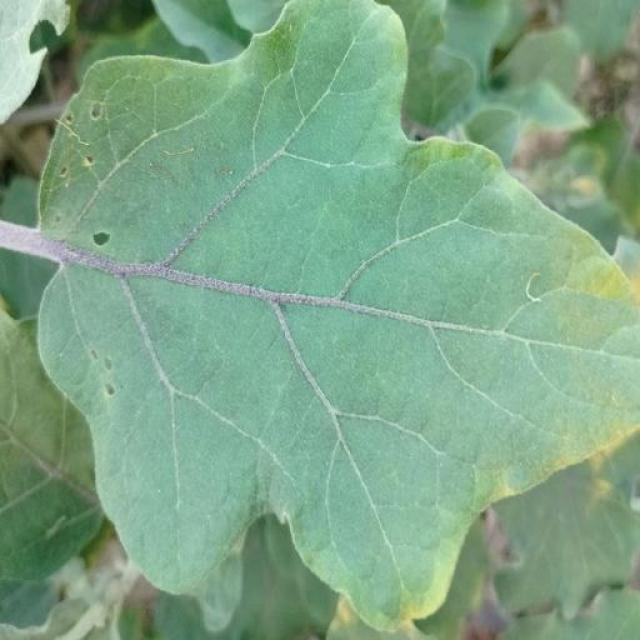leaf_spot: (290, 528, 458, 633), (405, 122, 525, 212), (553, 224, 637, 319), (130, 50, 304, 92), (546, 443, 640, 504), (352, 0, 415, 67), (82, 344, 131, 406), (15, 8, 65, 55), (596, 418, 640, 466), (564, 173, 610, 217), (476, 466, 516, 514), (85, 218, 118, 258), (89, 97, 113, 126), (54, 161, 74, 190), (56, 112, 78, 132), (82, 151, 99, 176)
